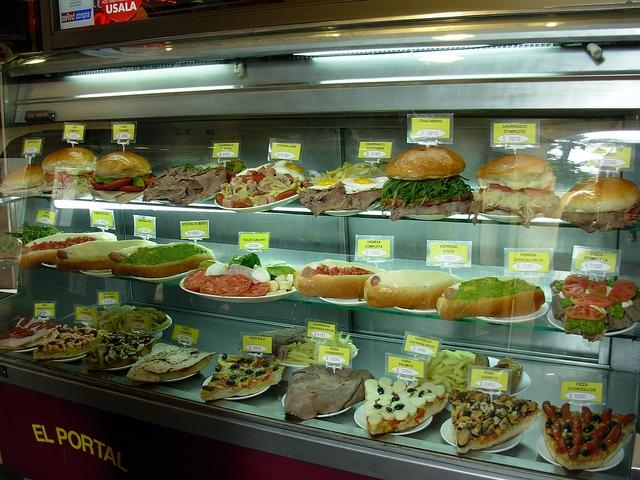tomato: (216, 274, 252, 296), (566, 304, 606, 322), (570, 294, 616, 308), (199, 274, 228, 296), (562, 274, 588, 298), (183, 270, 208, 292), (608, 286, 636, 302), (102, 178, 132, 190), (44, 171, 74, 183), (242, 283, 269, 296), (588, 278, 606, 297), (412, 198, 451, 206), (489, 184, 524, 192), (186, 268, 208, 278), (385, 197, 404, 207), (90, 180, 106, 191), (117, 186, 146, 192), (144, 174, 155, 186)
